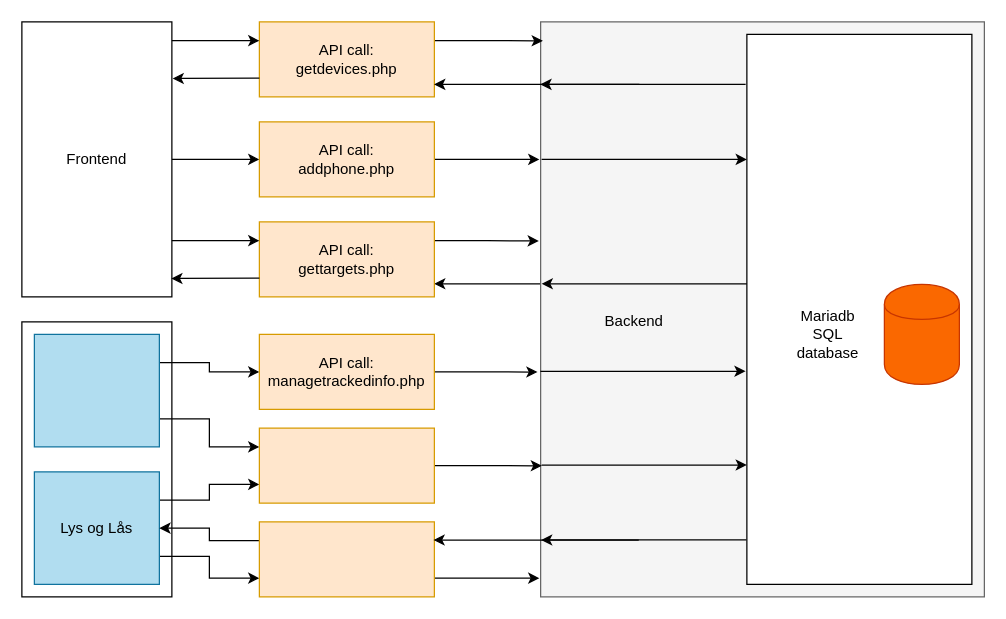
Some shapes in this 1006 by 619 pixel diagram are drawn without their labels. The shapes that lost their labels are listed below. From the top down, each one's centre as x and y in pixels, then its label:
At point 96,390: "Wifi-Tracker".
At point 346,465: "API call: addevice.php".
At point 346,559: "API call: getdevicestate.php".
